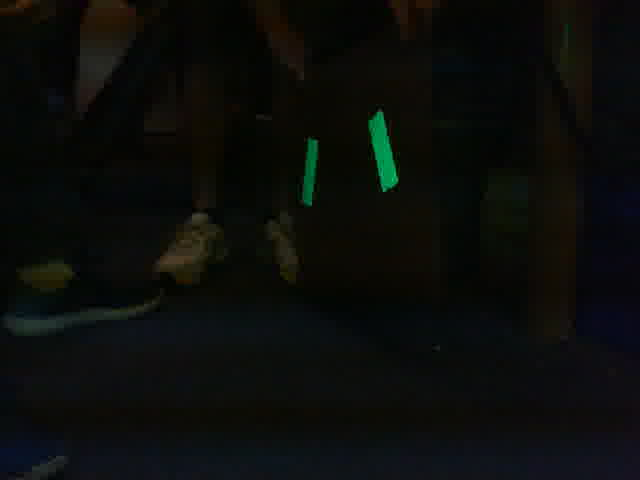target: (301, 110, 399, 207)
